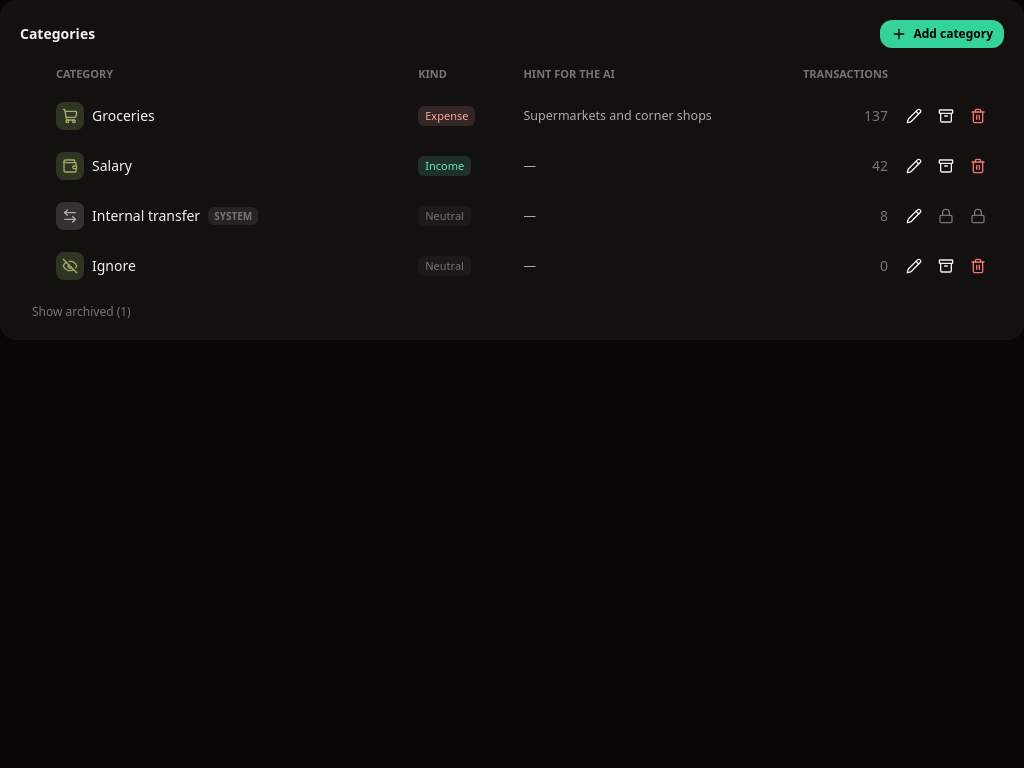
Test: CategoriesSurface › reports a failed action inline and keeps the table usable
Check: the text "Groceries" is shown, box top-left (92, 106), bottom-right (155, 126)
What coordinates should you click on to do the following:
click the button named "Archive Groceries"
I would click on:
 (946, 116)
Its box is top-left (932, 102), bottom-right (960, 130).
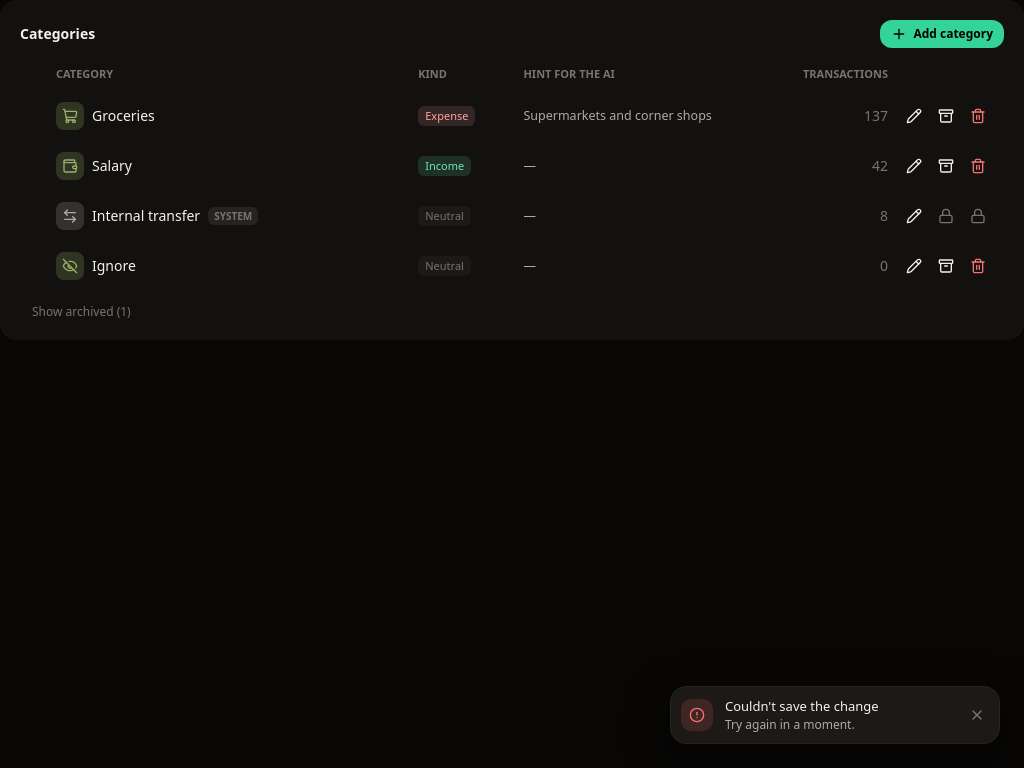
Check: the text "Groceries" is shown, box top-left (92, 106), bottom-right (155, 126)
Check: the message shows "Couldn't save the change", box top-left (725, 697), bottom-right (879, 715)
